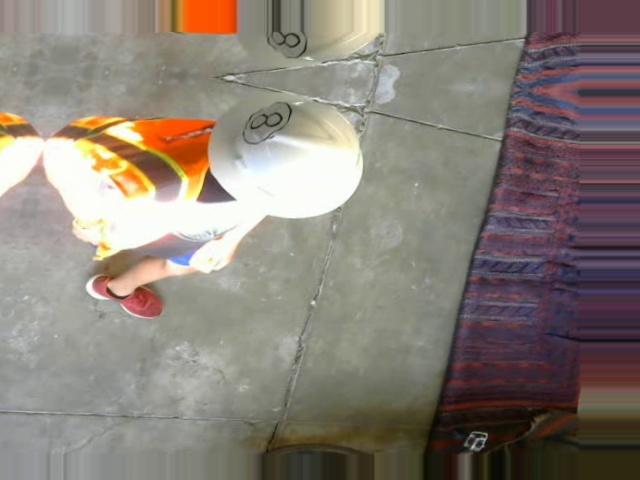eight: (240, 99, 294, 145)
